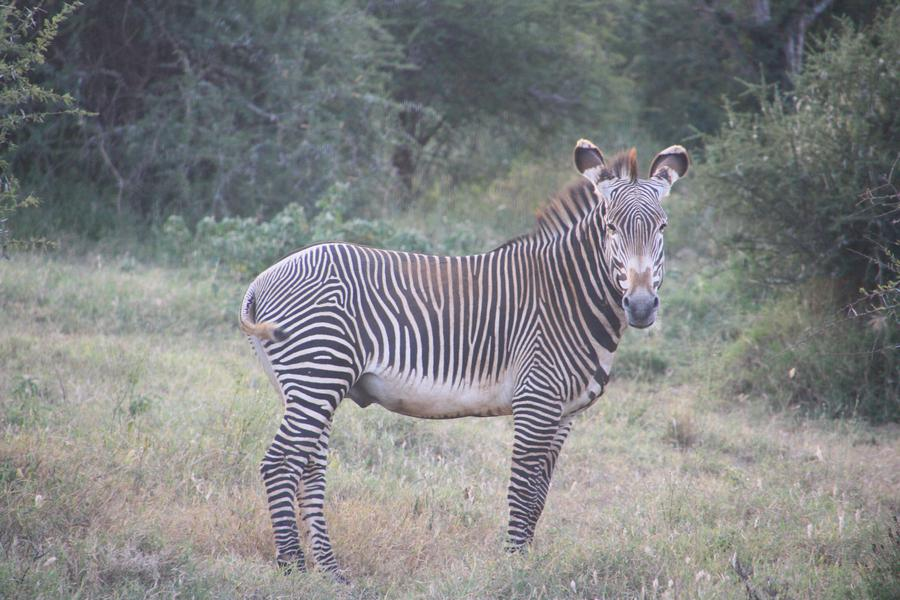zebra_grevys: (256, 241, 571, 414)
